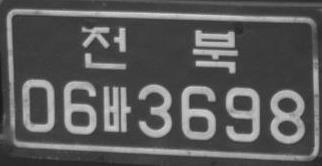0: (21, 77, 55, 133)
3: (138, 83, 171, 138)
6: (181, 85, 216, 140), (63, 79, 96, 133)
8: (269, 89, 306, 145)
9: (224, 85, 260, 142)
바: (102, 85, 133, 132)
전북_D: (80, 24, 238, 74)
